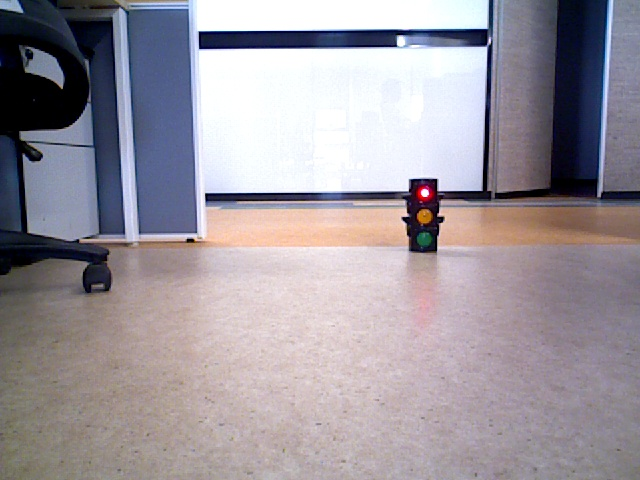red: (407, 181, 437, 249)
